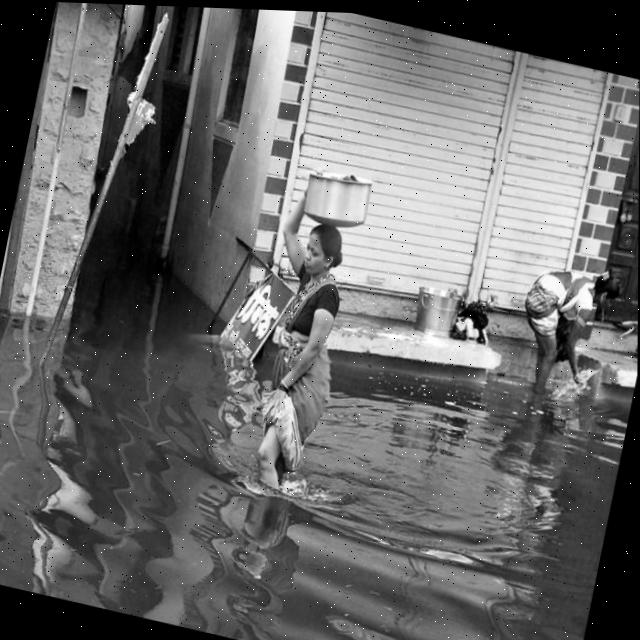civilian: (225, 171, 377, 525), (499, 242, 638, 421)
